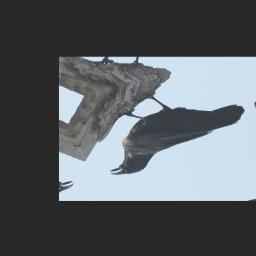Crow: (81, 71, 256, 180)
